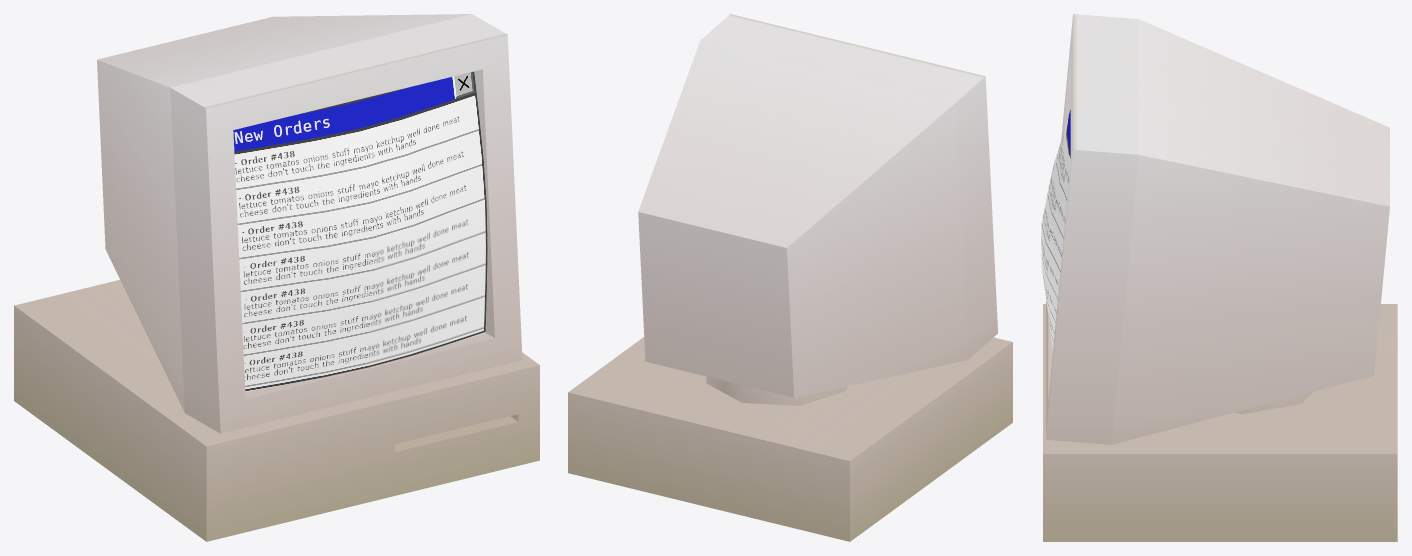
The model's file is computer.glb.
The picture shows the model from 3 angles, left to right: view 1: azimuth 30°, elevation 25°; view 2: azimuth 150°, elevation 25°; view 3: azimuth 270°, elevation 25°; orthographic projection. The views are drawn at different scales.
Parts seen in each view (by area): view 1: computer; view 2: computer; view 3: computer.
Part boxes in pixels (left/top/right/bottom): computer: left=14, top=14, right=539, bottom=541; computer: left=568, top=14, right=1012, bottom=541; computer: left=1041, top=14, right=1397, bottom=541.
Size of the model in its own units: 2.21 by 2.65 by 2.22.
Materials: 2 (2 with a texture image).
